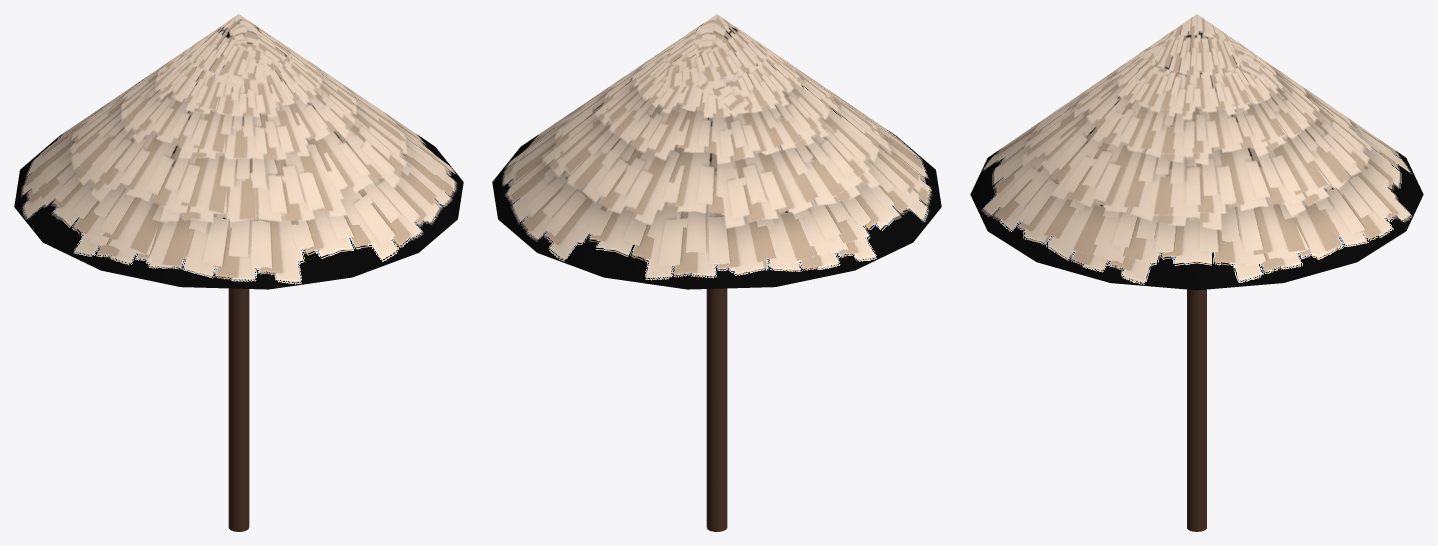
3 views of the same model, side by side, from view 1: azimuth 30°, elevation 25°; view 2: azimuth 150°, elevation 25°; view 3: azimuth 270°, elevation 25° (orthographic).
Parts seen in each view (by area): view 1: Beach_Umbrella; view 2: Beach_Umbrella; view 3: Beach_Umbrella.
Part boxes in pixels (left/top/right/bottom): Beach_Umbrella: left=14, top=14, right=463, bottom=531; Beach_Umbrella: left=492, top=14, right=941, bottom=531; Beach_Umbrella: left=970, top=14, right=1423, bottom=531.
Bounding box in the file's own units: 312 × 391 × 312.
Materials: 2 (2 with a texture image).
